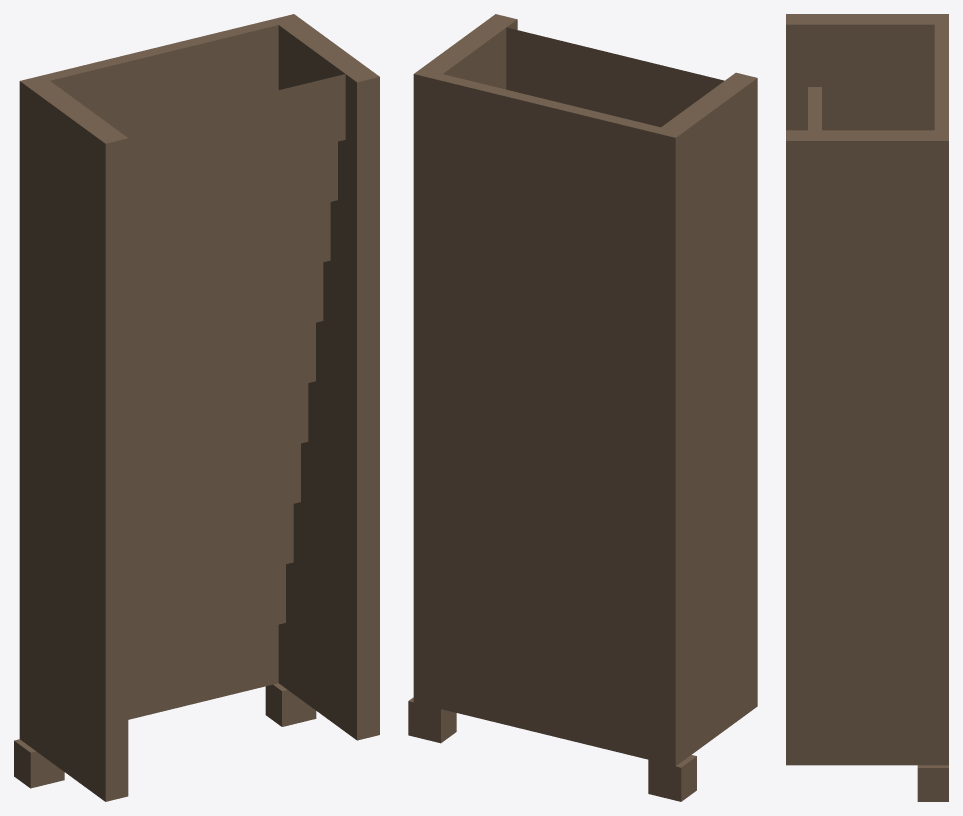
Rendered from SM_Grand_Stairs.obj.
The picture shows the model from 3 angles, left to right: view 1: azimuth 30°, elevation 25°; view 2: azimuth 150°, elevation 25°; view 3: azimuth 270°, elevation 25°; orthographic projection. The views are drawn at different scales.
Visible parts, largest first — view 1: Mudbrick; view 2: Mudbrick; view 3: Mudbrick.
Part boxes in pixels (box(x1,y1,x2,y2)): Mudbrick: box(14, 14, 379, 801); Mudbrick: box(408, 14, 757, 801); Mudbrick: box(786, 14, 948, 801).
Size of the model in its own units: 1000 by 2320 by 520.
